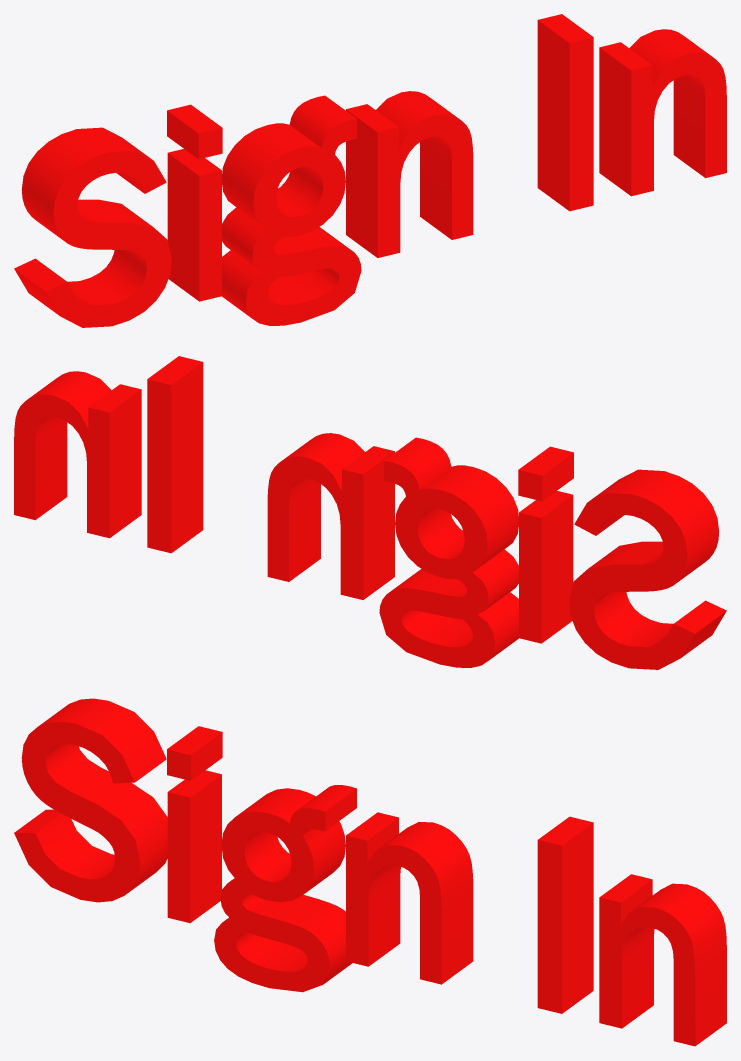
3 views of the same model, one above another, from view 1: azimuth 30°, elevation 25°; view 2: azimuth 150°, elevation 25°; view 3: azimuth 330°, elevation 25° (orthographic).
Parts seen in each view (by area): view 1: mesh_id43; view 2: mesh_id43; view 3: mesh_id43.
Boxes of the visible parts, <box> form: mesh_id43: <box>14,14,726,327</box>; mesh_id43: <box>14,356,726,669</box>; mesh_id43: <box>14,698,726,1046</box>.
Bounding box in the file's own units: 46.4 × 14.14 × 3.75.
